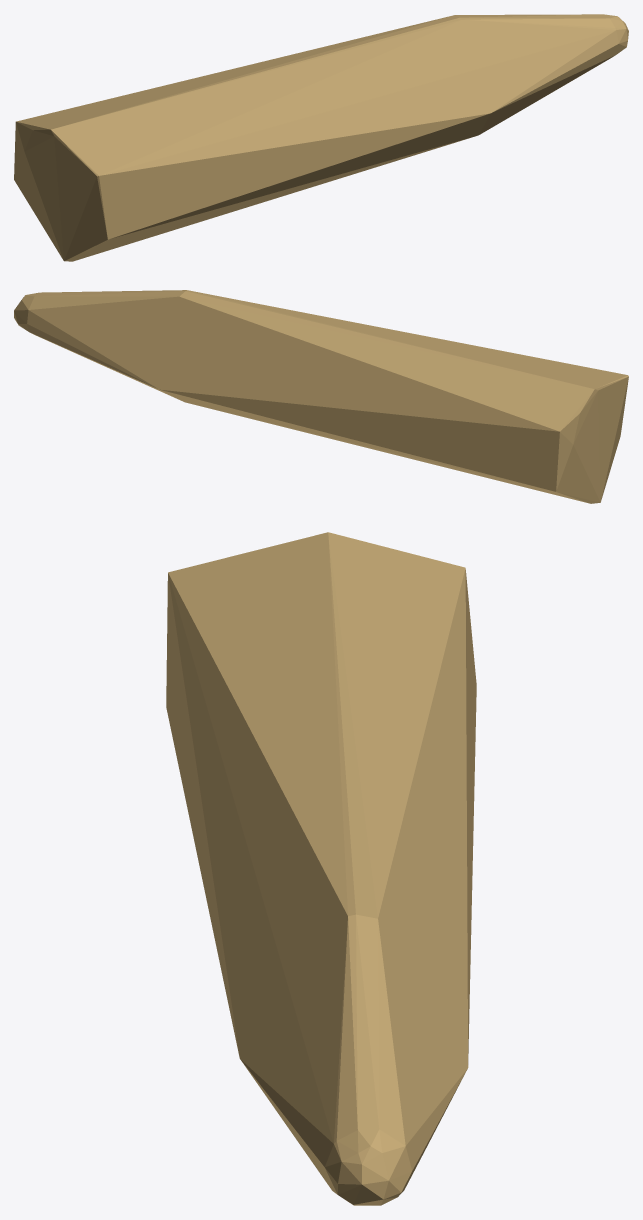
Rendered from drivetrain_axle_shaft_a01.glb.
3 renders of one model, top to bottom at view 1: azimuth 30°, elevation 25°; view 2: azimuth 150°, elevation 25°; view 3: azimuth 270°, elevation 25°, orthographic. The views are drawn at different scales.
Visible parts, largest first — view 1: geometry_0; view 2: geometry_0; view 3: geometry_0.
Part boxes in pixels (bbox=[...]): geometry_0: bbox=[14, 14, 628, 261]; geometry_0: bbox=[14, 290, 628, 503]; geometry_0: bbox=[166, 532, 476, 1205].
Bounding box in the file's own units: 0.4797 × 0.104 × 0.1133.
